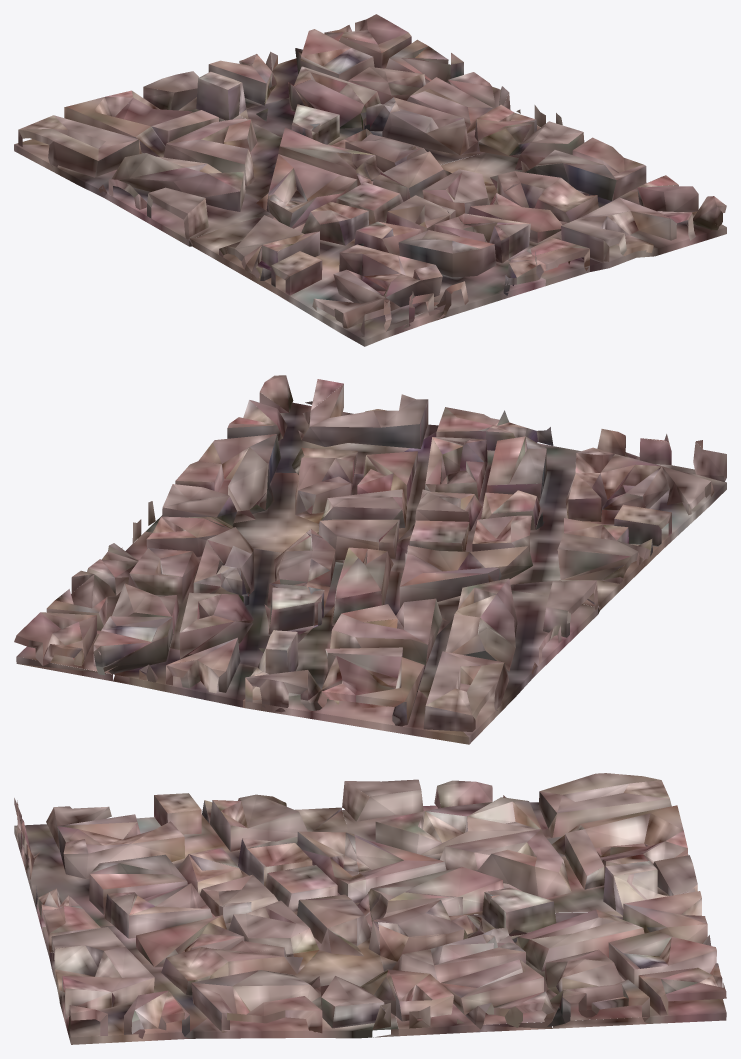
The picture shows the model from 3 angles, top to bottom: view 1: azimuth 30°, elevation 25°; view 2: azimuth 150°, elevation 25°; view 3: azimuth 270°, elevation 25°; orthographic projection. The views are drawn at different scales.
Parts seen in each view (by area): view 1: Mesh_0; view 2: Mesh_0; view 3: Mesh_0.
Part boxes in pixels (x1,y1,x2,y2): Mesh_0: (14,14,726,346); Mesh_0: (14,375,726,744); Mesh_0: (14,773,726,1044).
Bounding box in the file's own units: 532 × 61.97 × 659.
Materials: 2 (2 with a texture image).
